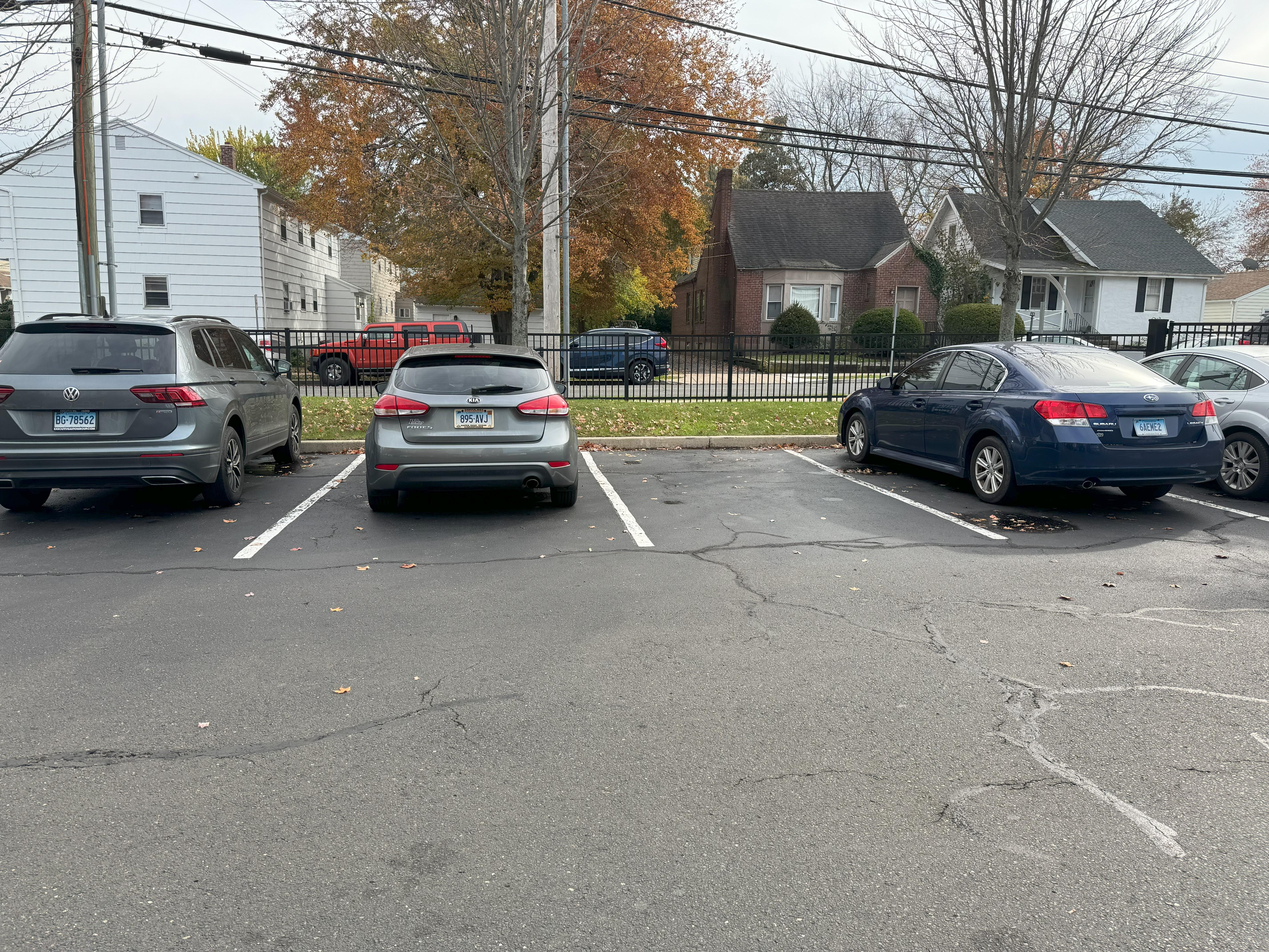empty: (614, 420, 828, 560)
occupied: (845, 307, 1235, 535), (9, 289, 306, 529), (345, 307, 589, 536)
